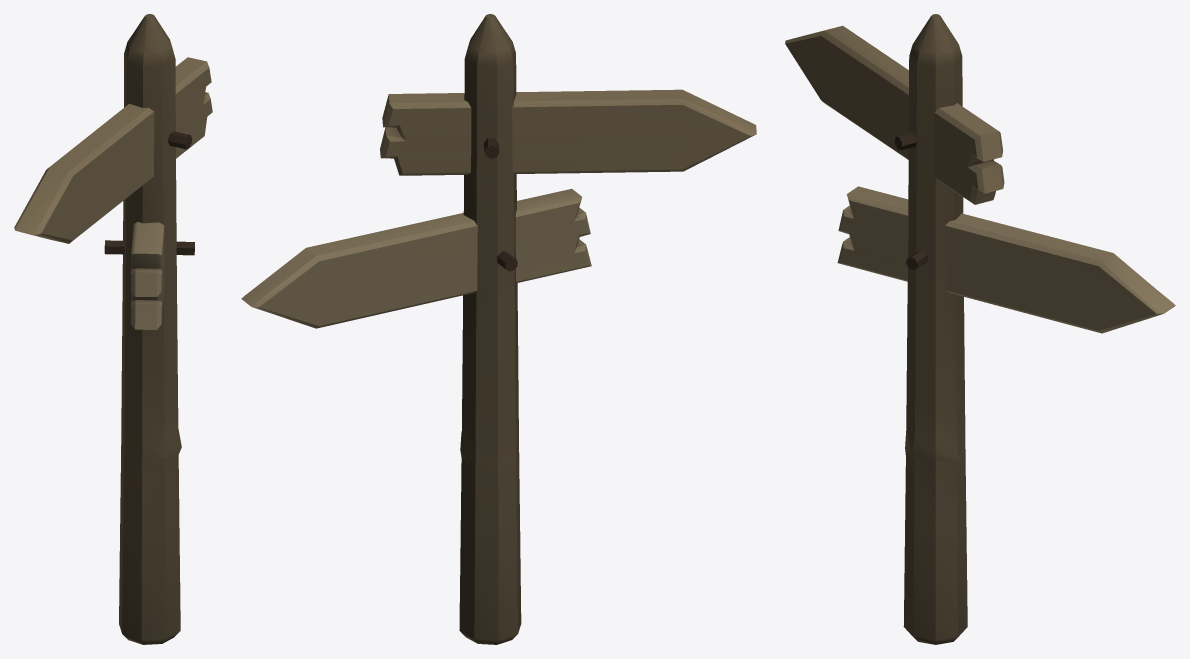
File: p_signpost.glb
The picture shows the model from 3 angles, left to right: view 1: azimuth 30°, elevation 25°; view 2: azimuth 150°, elevation 25°; view 3: azimuth 270°, elevation 25°; orthographic projection.
Parts seen in each view (by area): view 1: p_signpost; view 2: p_signpost; view 3: p_signpost.
Part boxes in pixels (x1,y1,x2,y2): p_signpost: (14, 14, 212, 644); p_signpost: (241, 14, 756, 644); p_signpost: (785, 14, 1175, 644).
Size of the model in its own units: 1.14 by 2 by 1.15.
